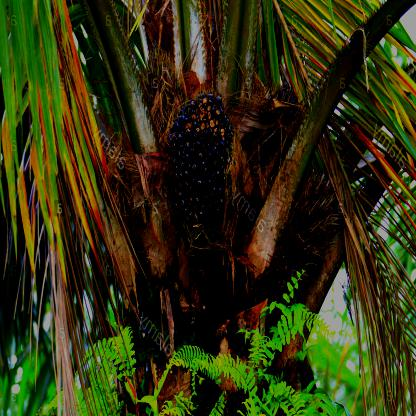palm-oil: (162, 98, 236, 246), (249, 82, 301, 177), (288, 166, 343, 254), (144, 52, 177, 112)
